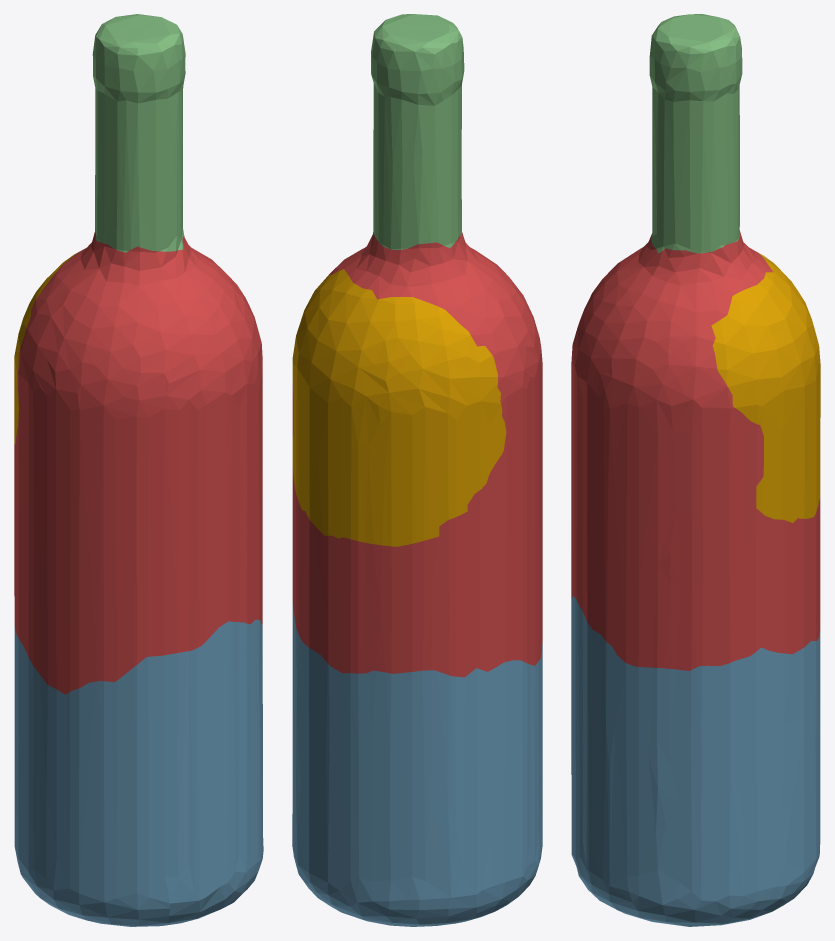
The model's file is fractured_13_4pcs.glb.
3 views of the same model, side by side, from view 1: azimuth 30°, elevation 25°; view 2: azimuth 150°, elevation 25°; view 3: azimuth 270°, elevation 25° (orthographic).
Parts seen in each view (by area): view 1: piece_1.obj, piece_2.obj, piece_3.obj, piece_0.obj; view 2: piece_2.obj, piece_1.obj, piece_0.obj, piece_3.obj; view 3: piece_1.obj, piece_2.obj, piece_3.obj, piece_0.obj.
Part boxes in pixels (x1,y1,x2,y2): piece_1.obj: (14,228,262,694); piece_2.obj: (14,619,263,926); piece_3.obj: (92,14,185,252); piece_0.obj: (14,251,79,444); piece_2.obj: (292,605,542,926); piece_1.obj: (292,232,542,677); piece_0.obj: (292,269,506,546); piece_3.obj: (371,14,464,249); piece_1.obj: (571,230,820,670); piece_2.obj: (571,596,820,926); piece_3.obj: (649,14,742,253); piece_0.obj: (711,253,820,522).
Bounding box in the file's own units: 0.2625 × 1 × 0.2625.
